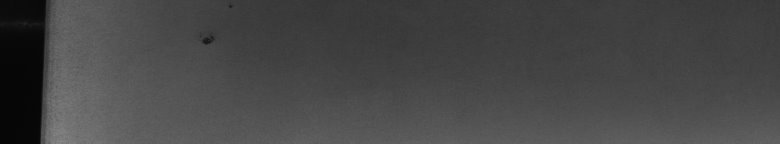fi: (197, 4, 233, 52)
